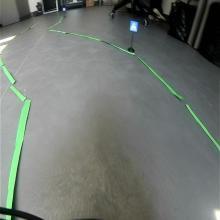crosswalk: (129, 20, 139, 33)
